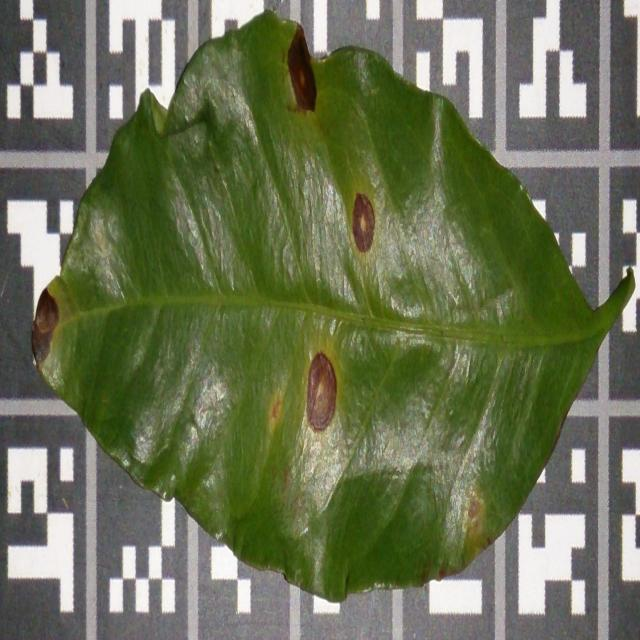Enfermedad-Mancha-de-hierro: (30, 13, 638, 605)
